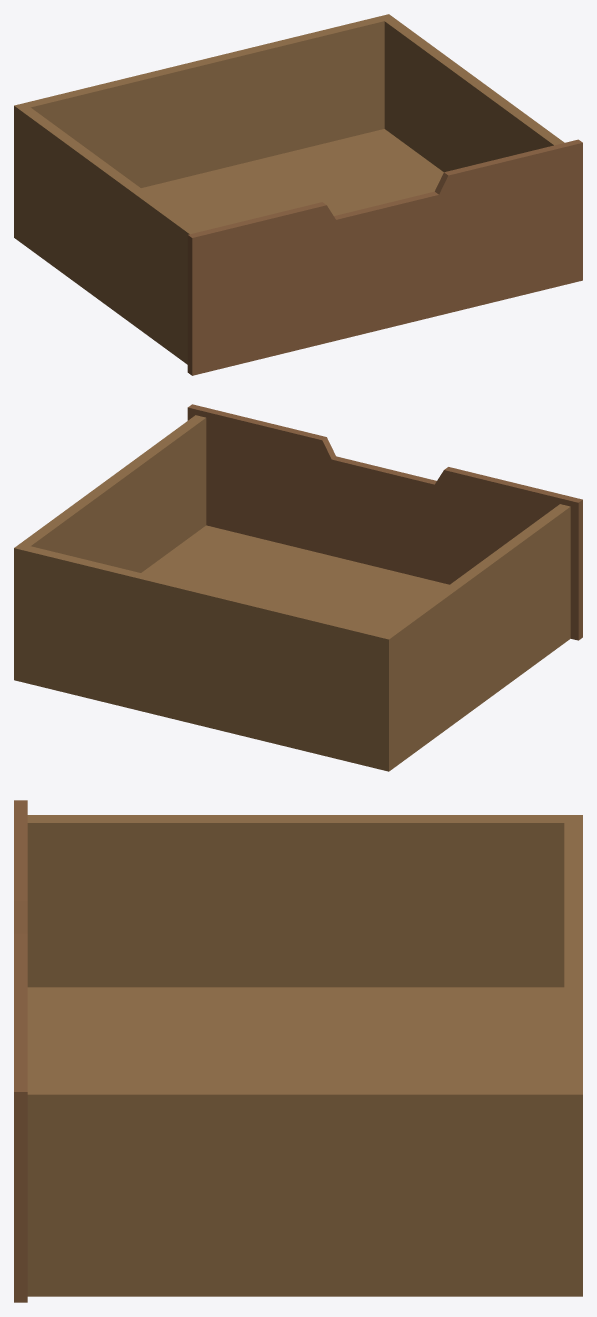
The model's file is Cupboard_15_02.fbx.
The picture shows the model from 3 angles, top to bottom: view 1: azimuth 30°, elevation 25°; view 2: azimuth 150°, elevation 25°; view 3: azimuth 270°, elevation 25°; orthographic projection. The views are drawn at different scales.
Parts seen in each view (by area): view 1: Cupboard_15_02; view 2: Cupboard_15_02; view 3: Cupboard_15_02.
Part boxes in pixels (bbox=[...]): Cupboard_15_02: bbox=[14, 14, 582, 375]; Cupboard_15_02: bbox=[14, 404, 582, 771]; Cupboard_15_02: bbox=[14, 800, 582, 1302].
Size of the model in its own units: 55.6 by 18.74 by 45.87.
